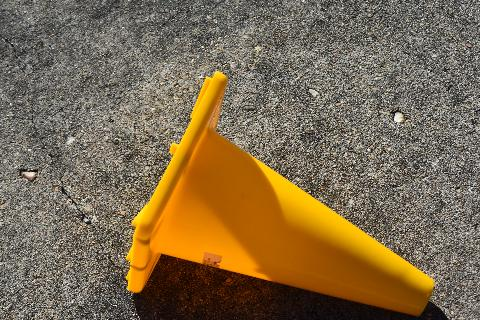cone: (125, 70, 435, 318)
